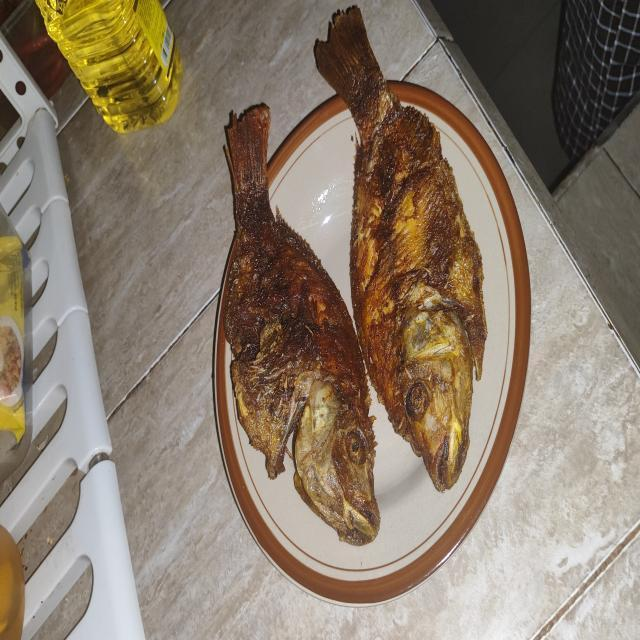ikan_mujair: (314, 6, 487, 492), (224, 104, 380, 546)
